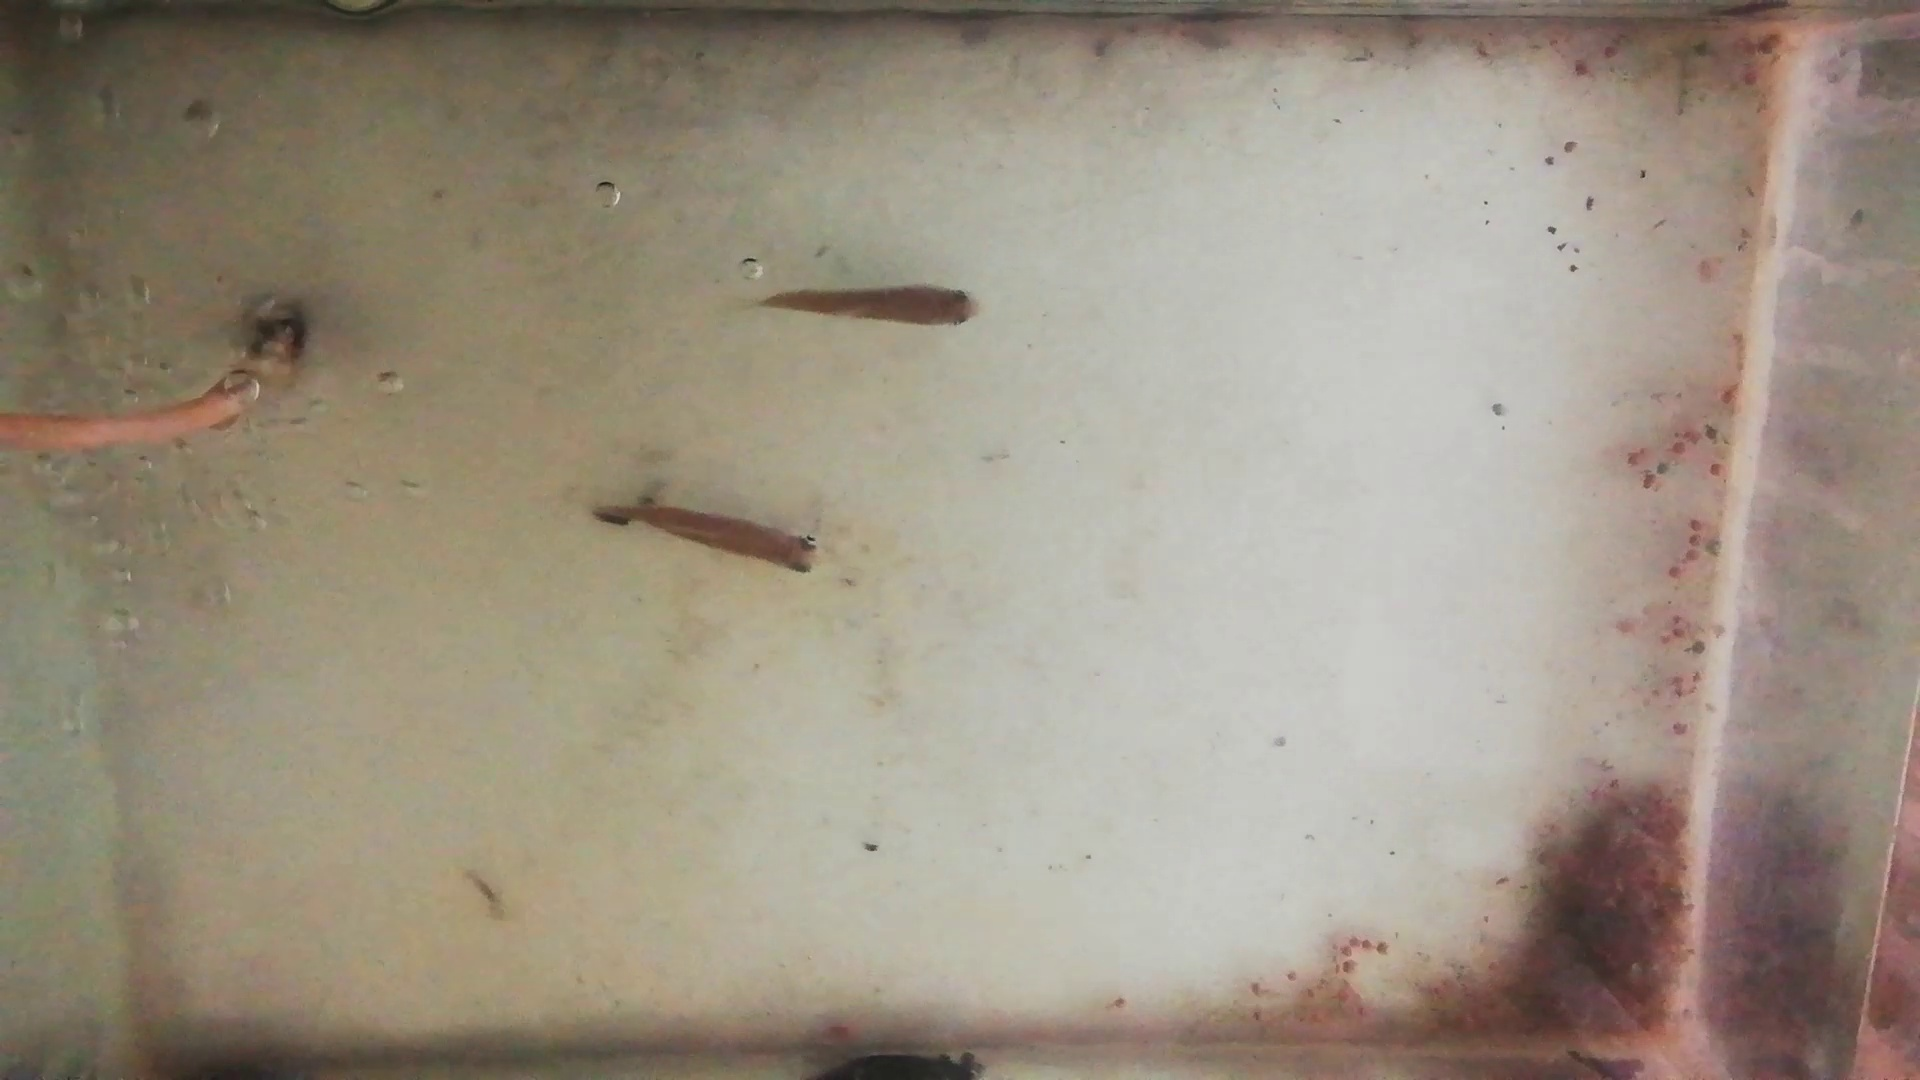fish: (589, 505, 824, 575), (761, 285, 981, 330)
